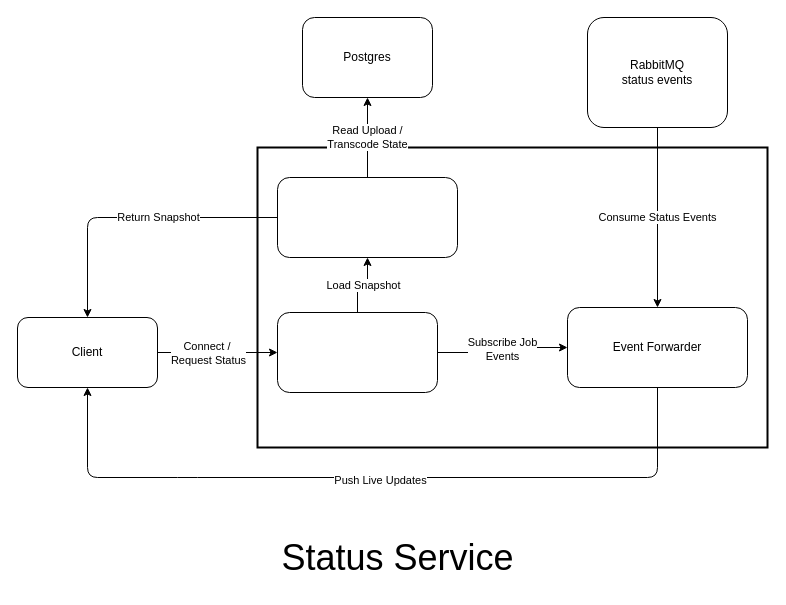
Image size: 786x605. Some labels were removed from this diagram. Each missing label, with the box of its shape:
Progress Snapshot: (276, 176, 458, 258)
Status API + WebSocket: (276, 312, 438, 392)
